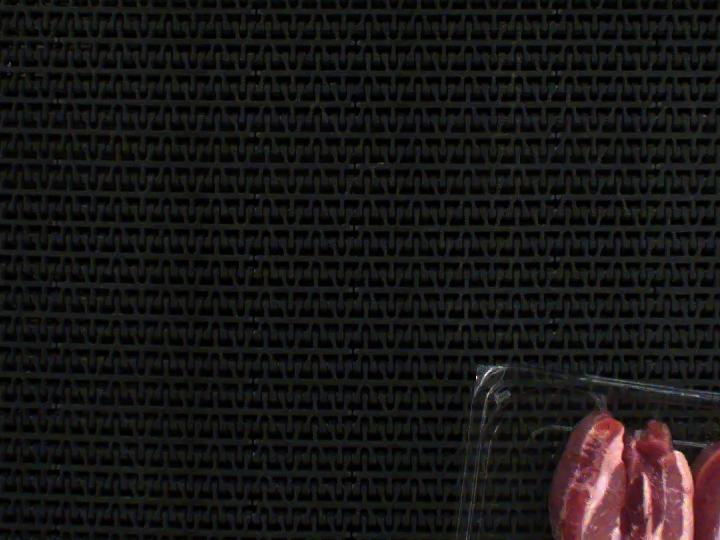packaging-error: (584, 387, 613, 416)
